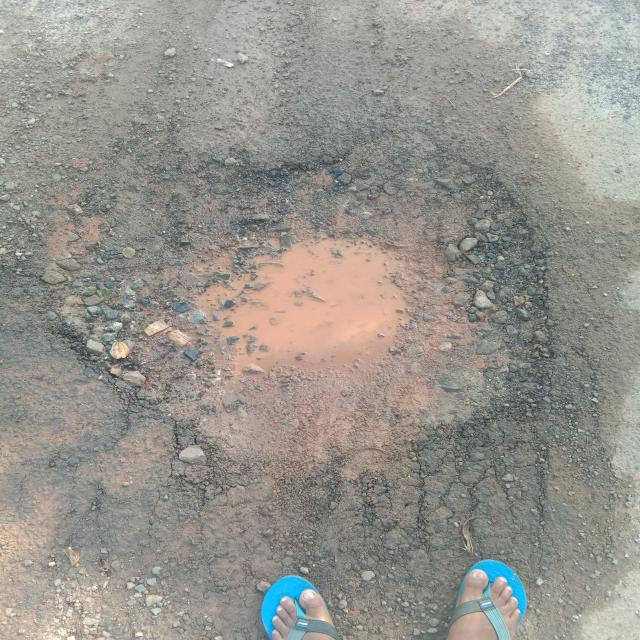potholes: (96, 194, 518, 432)
